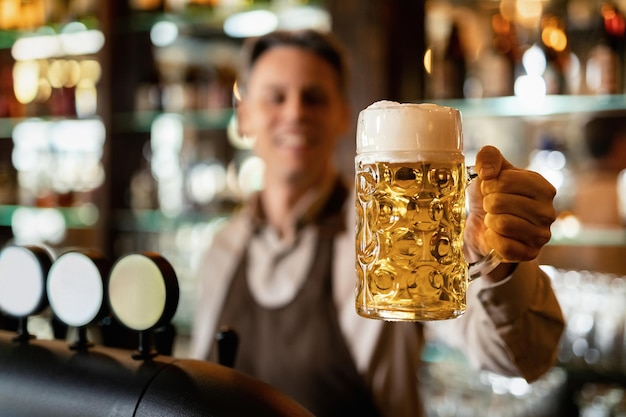alcohol: (355, 100, 507, 322)
